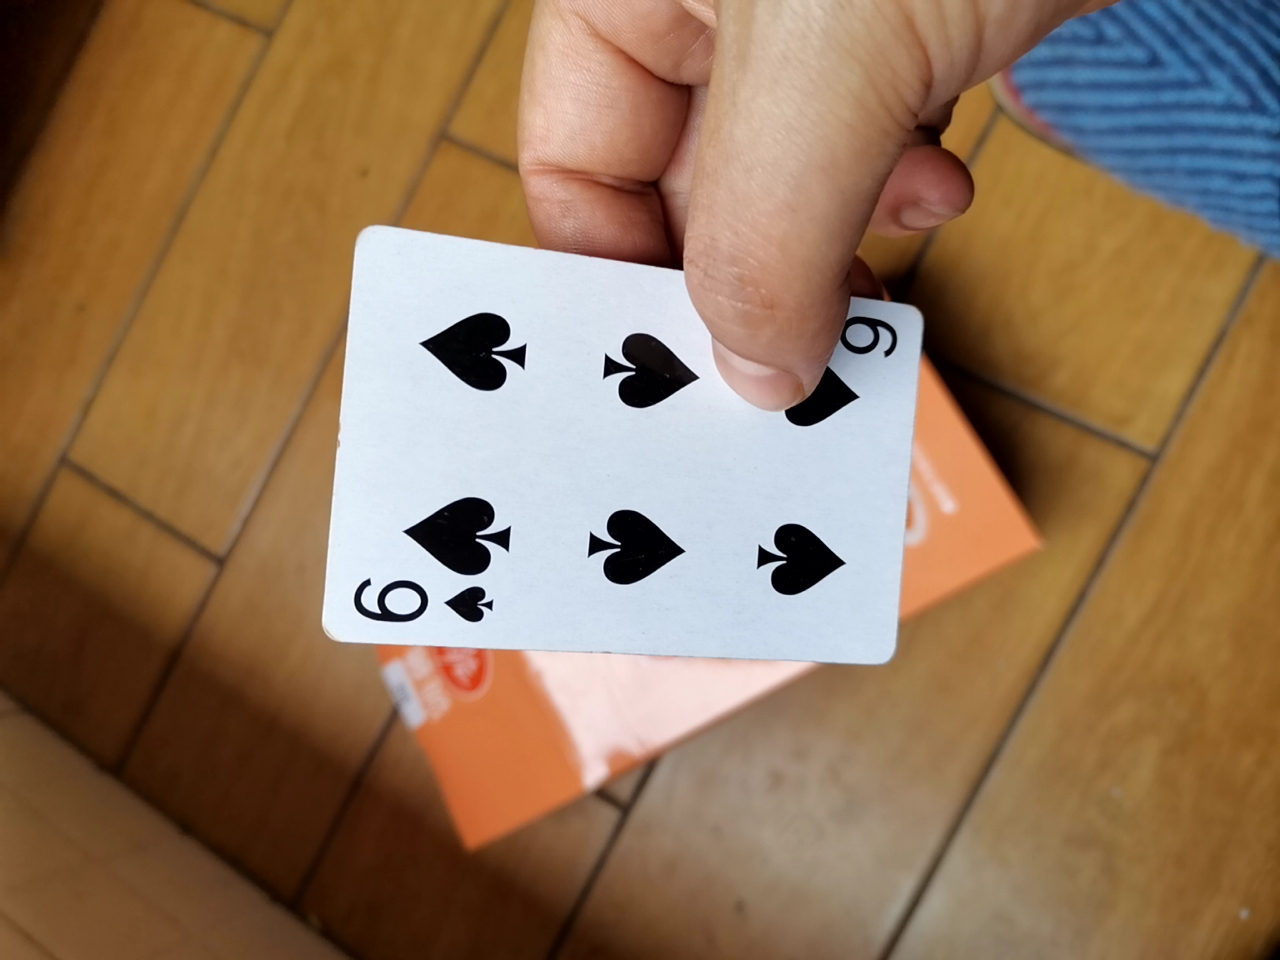ht 6: (301, 224, 943, 700)
